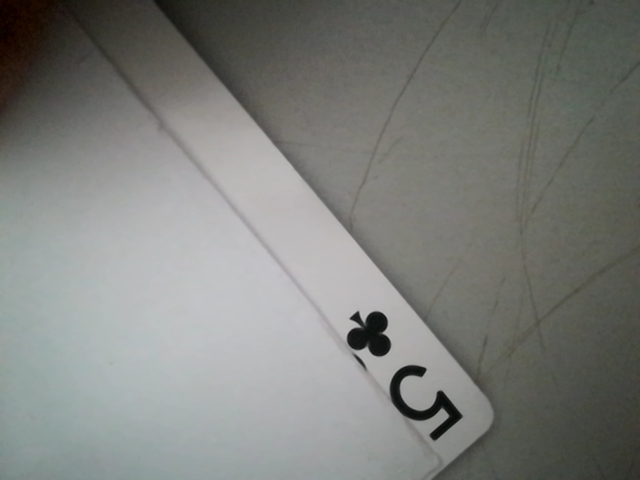mh 5: (332, 303, 480, 453)
